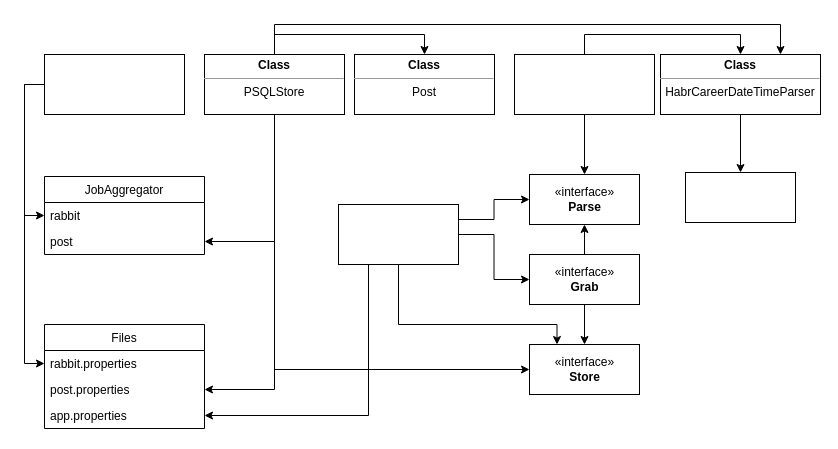
Some shapes in this 838 by 449 pixel diagram are drawn without their labels. Here are the shapes that lost their labels. From the top down, the box of each, then its label:
(44, 54, 184, 114): Class AlertRabbit
(514, 54, 654, 114): Class HabrCareerParse
(684, 172, 796, 222): «interface» DateTimeParser
(338, 204, 458, 264): Class Grabber
